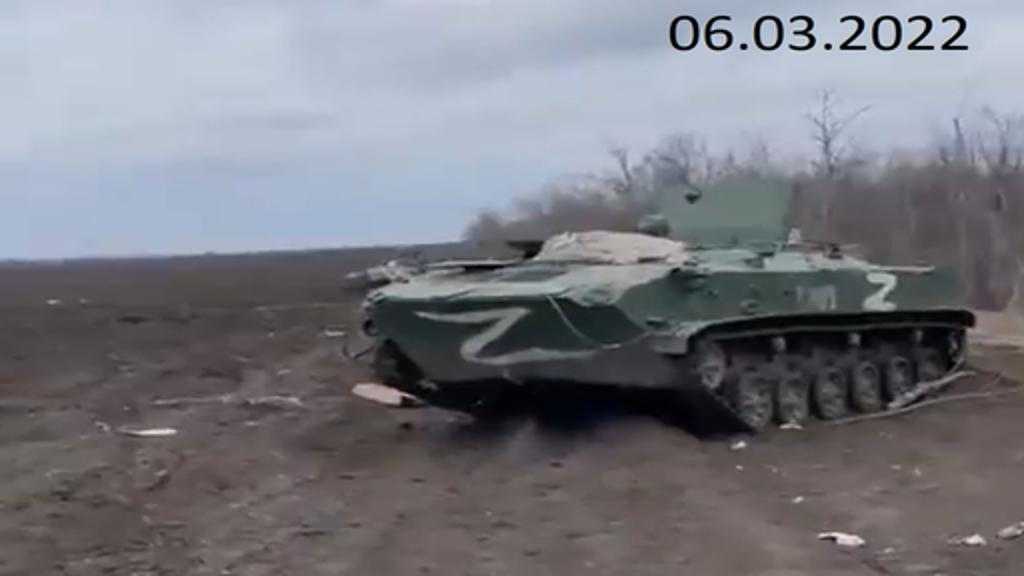APC-IFV: (344, 190, 982, 444)
